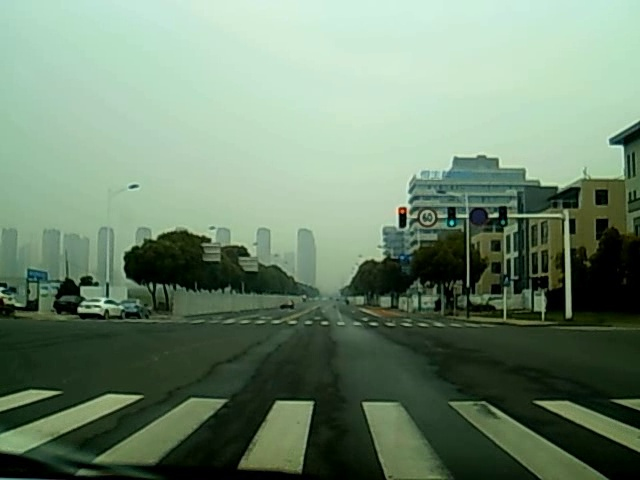Traffic_Light_go: (498, 206, 508, 228), (446, 206, 455, 229)
Traffic_Light_stop: (398, 207, 407, 230)
